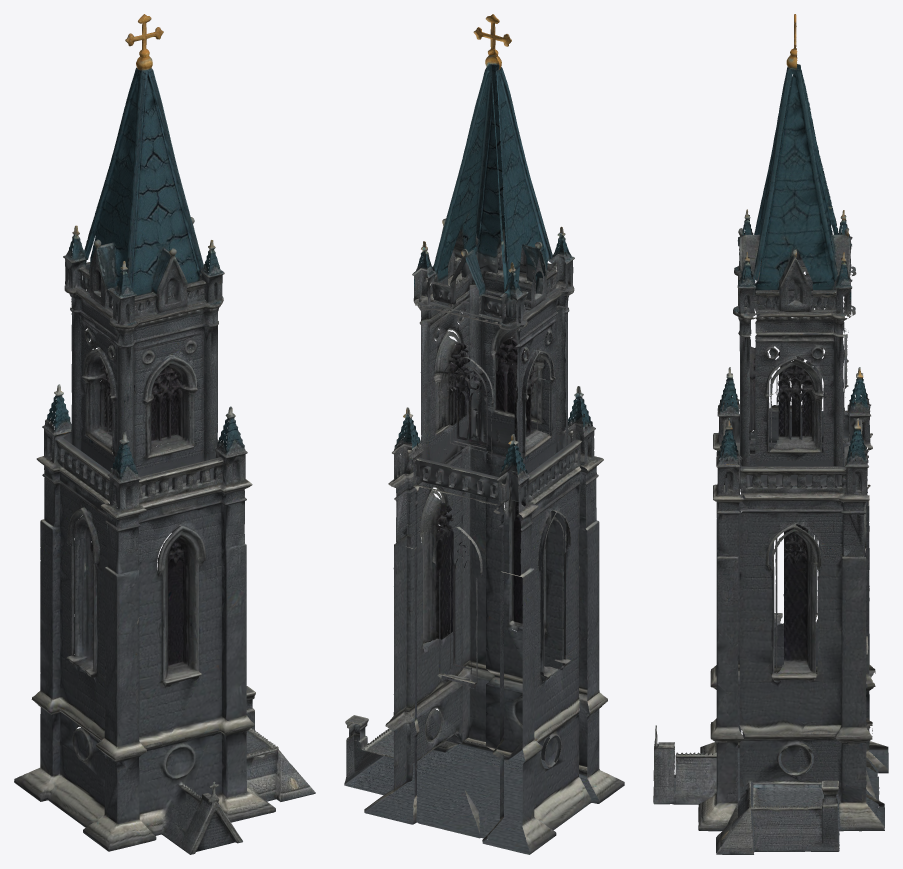
File: gothic_tower.glb
The picture shows the model from 3 angles, left to right: view 1: azimuth 30°, elevation 25°; view 2: azimuth 150°, elevation 25°; view 3: azimuth 270°, elevation 25°; orthographic projection.
Size of the model in its own units: 0.5498 by 1.9 by 0.5218.
1 material, 1 textured.
